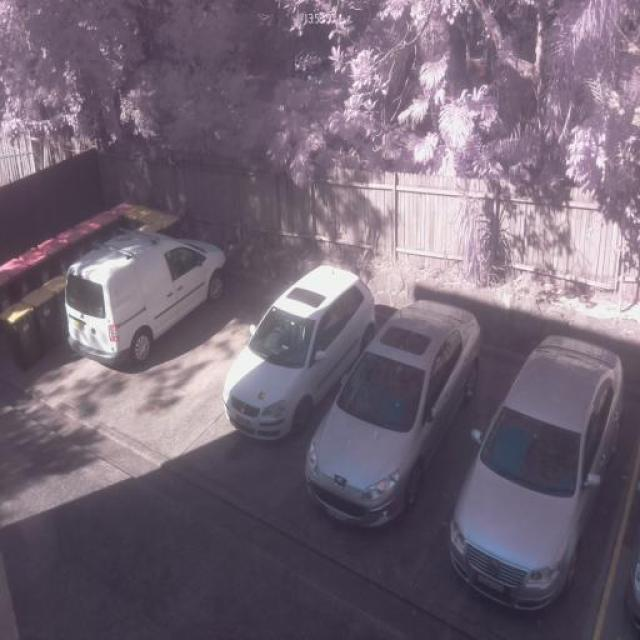Legalparking: (29, 135, 640, 640)
